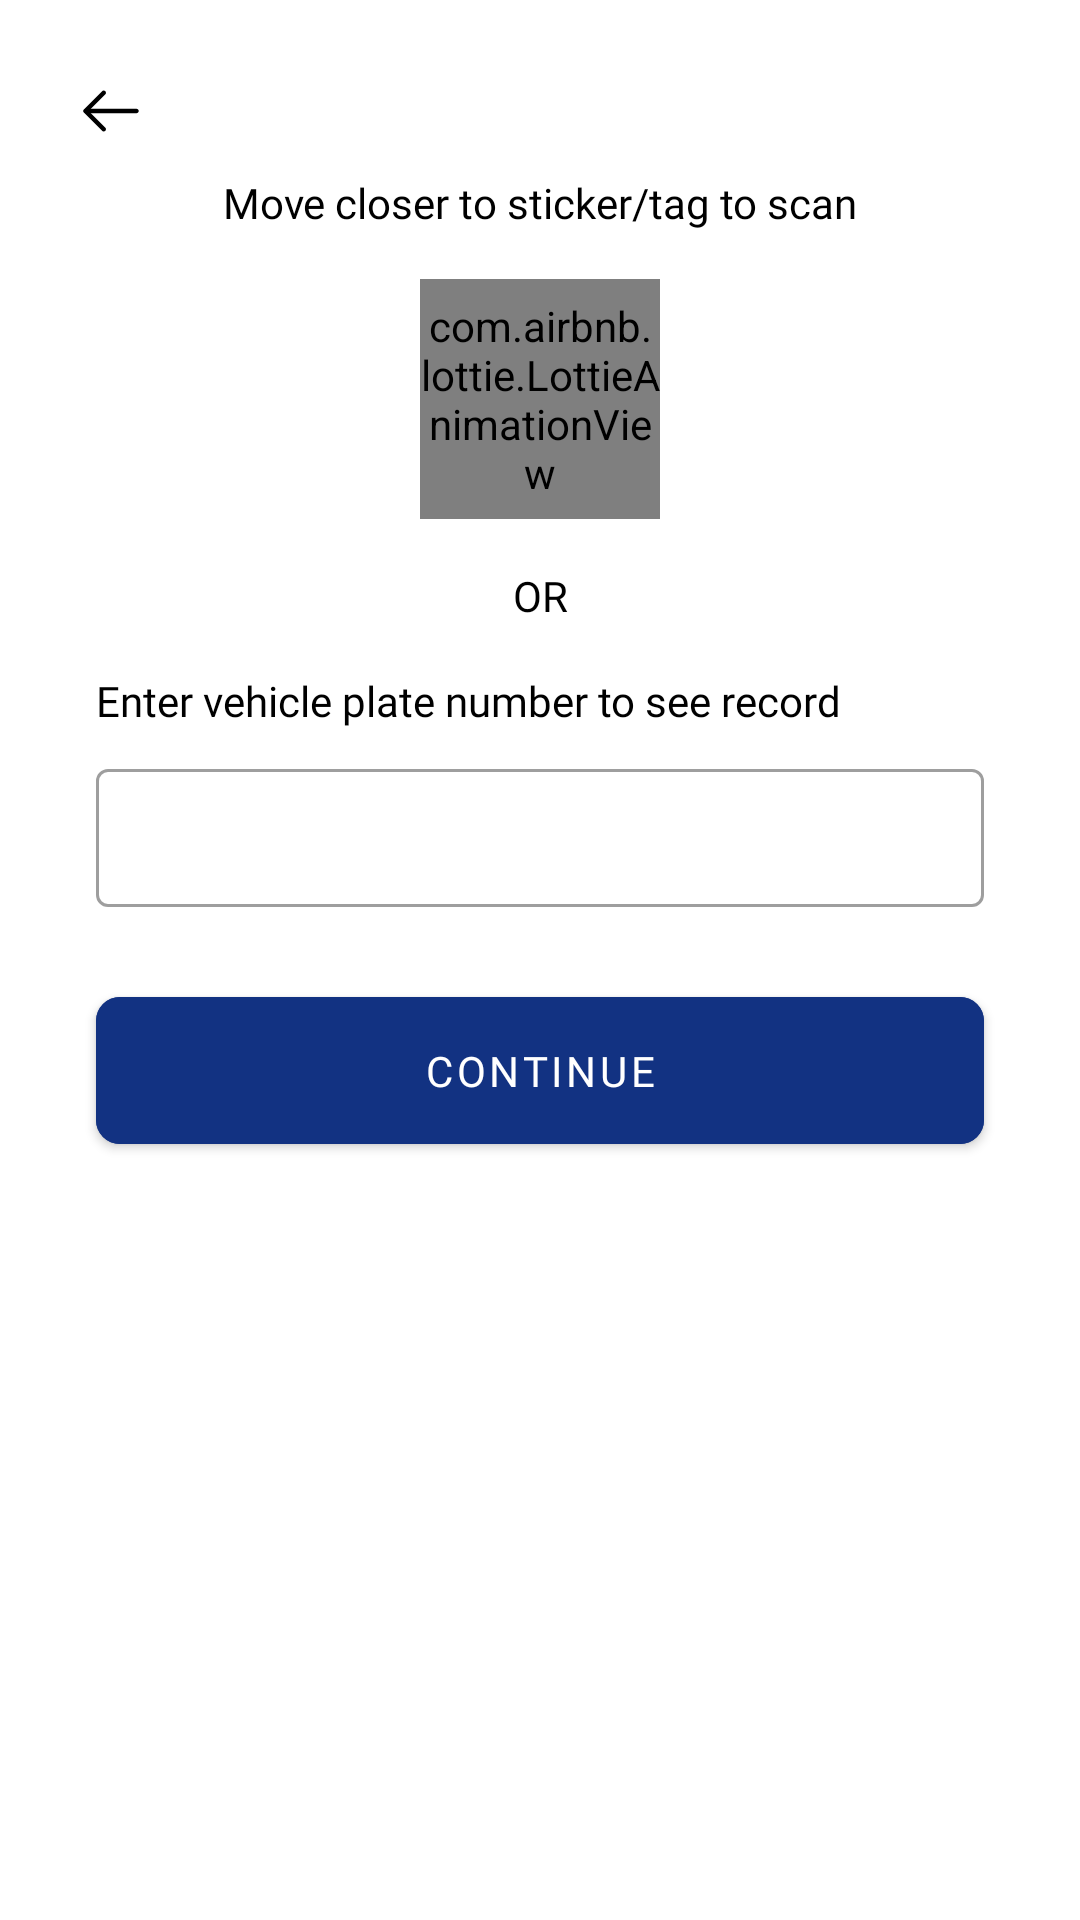

Where icons sit on this 1080px×1920px app screen, as detection(x1, y1, x2, y2):
arrow left: detection(83, 90, 139, 132)
